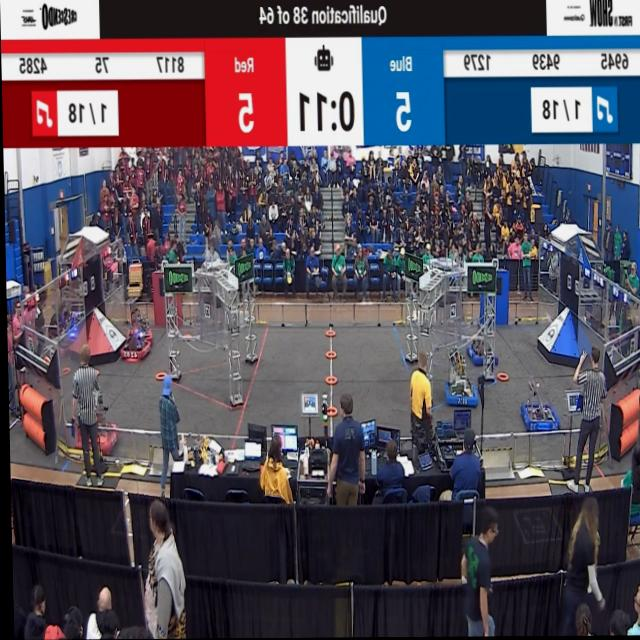Robot: (69, 366, 117, 462), (515, 370, 554, 441), (443, 345, 477, 411), (119, 308, 154, 367), (465, 318, 498, 371), (122, 294, 151, 342)
